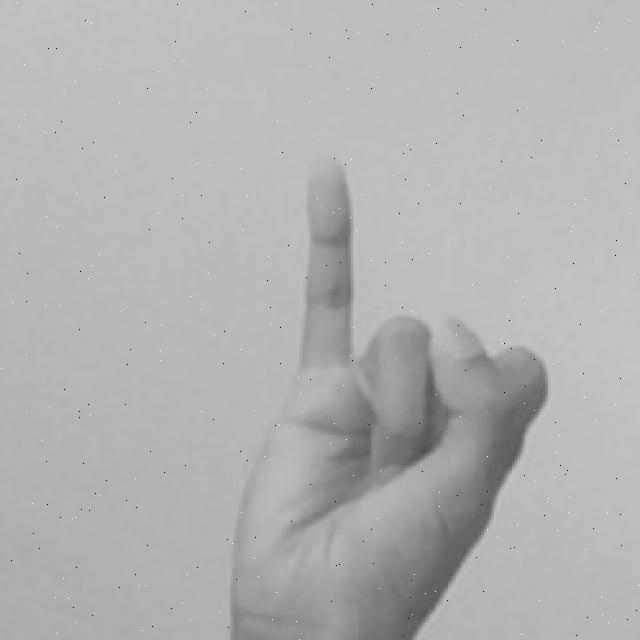I: (222, 151, 560, 640)
